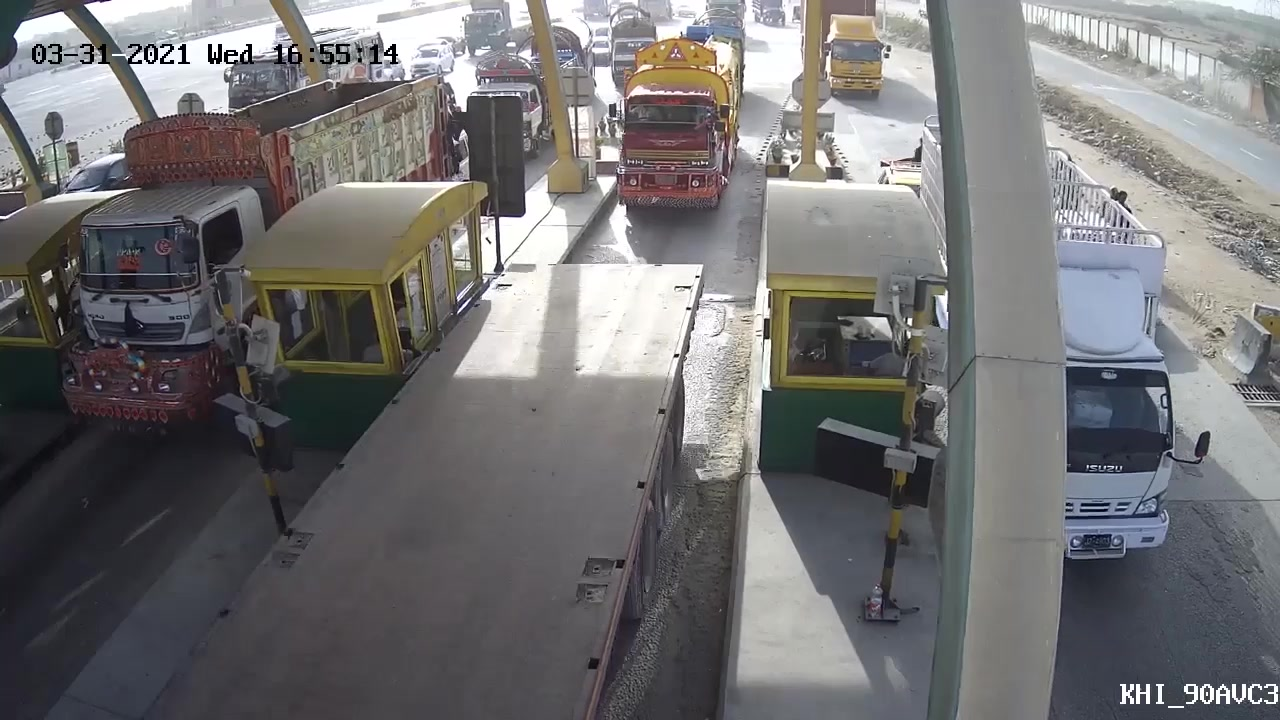F6: (592, 36, 738, 242)
